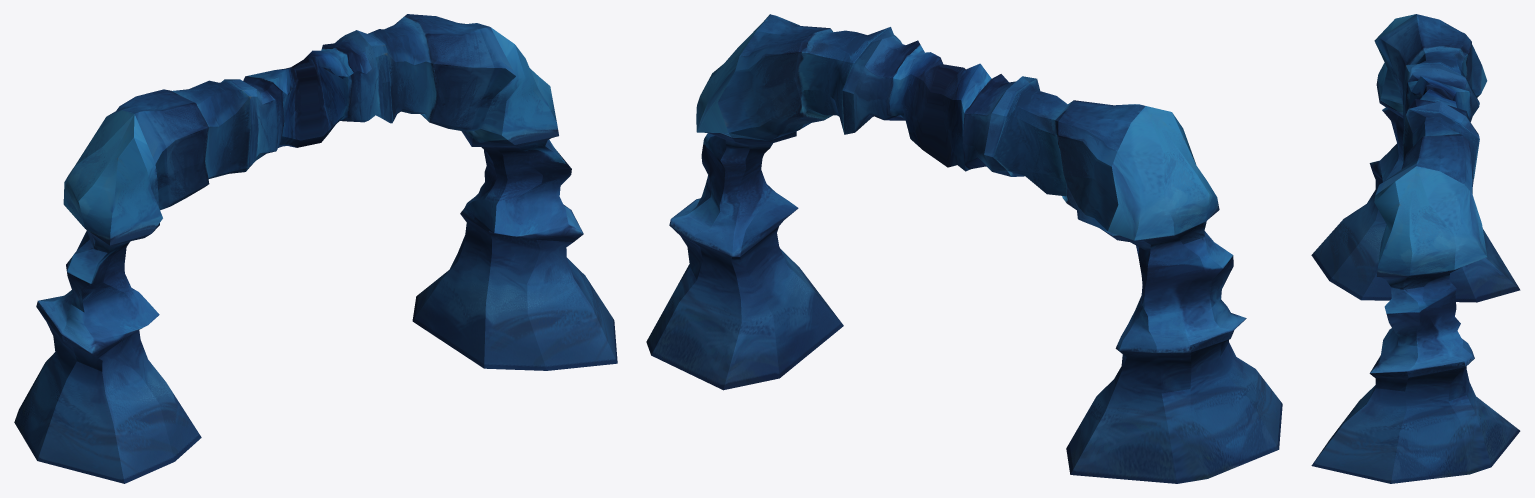
Rendered from rock_arch.fbx.
3 views of the same model, side by side, from view 1: azimuth 30°, elevation 25°; view 2: azimuth 150°, elevation 25°; view 3: azimuth 270°, elevation 25° (orthographic). The views are drawn at different scales.
Parts seen in each view (by area): view 1: rock_arch; view 2: rock_arch; view 3: rock_arch.
Part boxes in pixels (box(x1,y1,x2,y2)): rock_arch: box(14, 14, 617, 483); rock_arch: box(646, 14, 1282, 483); rock_arch: box(1311, 14, 1520, 483).
Bounding box in the file's own units: 12.7 × 6.84 × 4.55.
